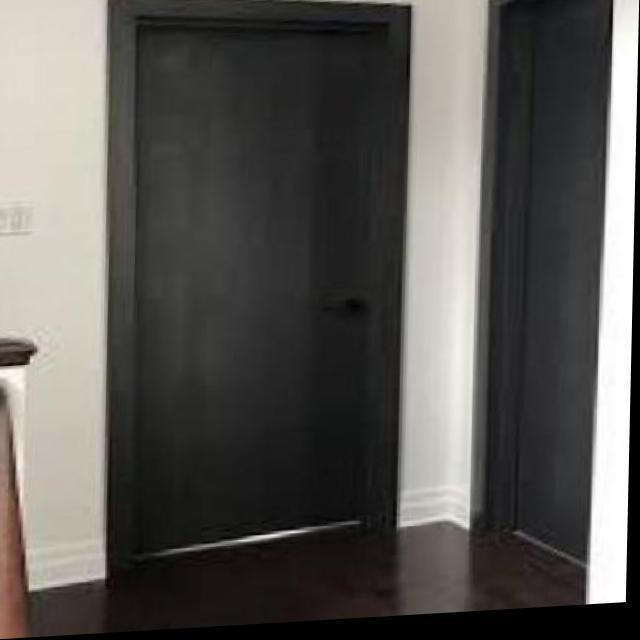door_handle: (317, 297, 381, 327)
